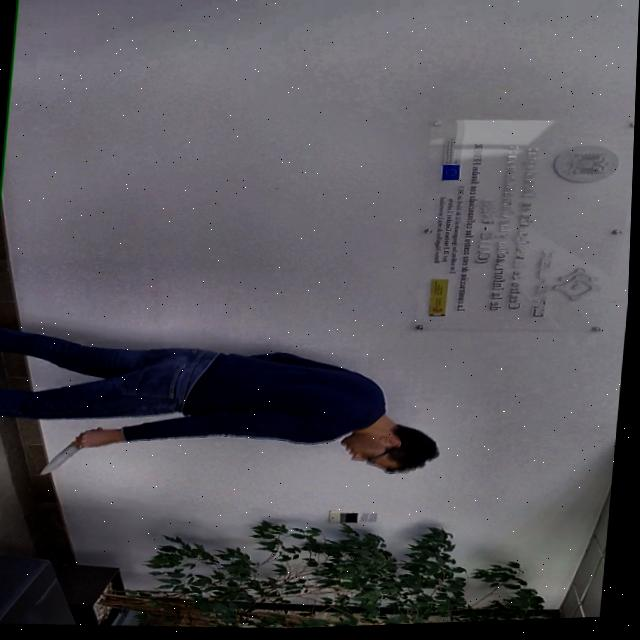knife: (43, 443, 88, 477)
